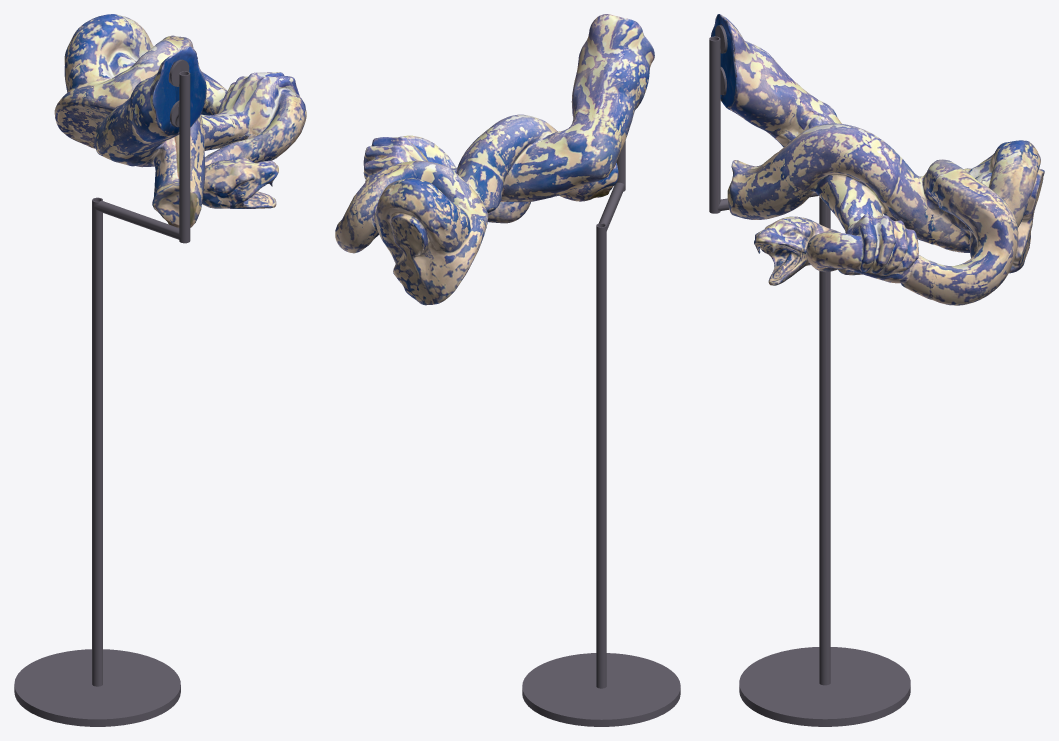
Rendered from 07_jung_snake.glb.
The picture shows the model from 3 angles, left to right: view 1: azimuth 30°, elevation 25°; view 2: azimuth 150°, elevation 25°; view 3: azimuth 270°, elevation 25°; orthographic projection. The views are drawn at different scales.
Parts seen in each view (by area): view 1: snake2; view 2: snake2; view 3: snake2.
Boxes of the visible parts, x1,y1,x2,y2 form: snake2: (14,14,306,726); snake2: (335,14,680,726); snake2: (709,14,1044,726).
Size of the model in its own units: 6.13 by 13.32 by 5.87.
1 material, 1 textured.
